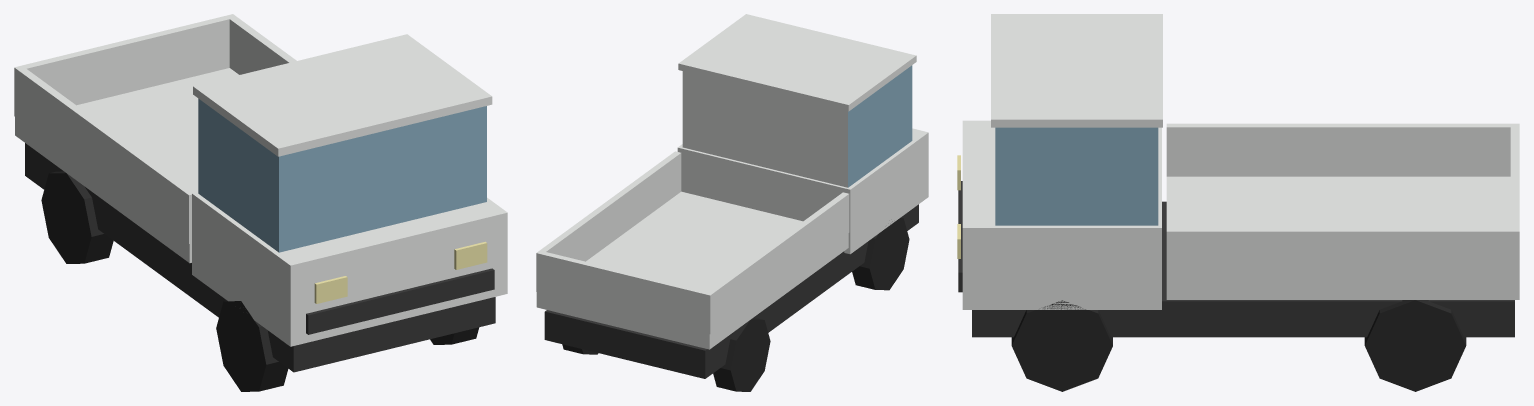
The model's file is keitruck.glb.
3 renders of one model, left to right at view 1: azimuth 30°, elevation 25°; view 2: azimuth 150°, elevation 25°; view 3: azimuth 270°, elevation 25°, orthographic. The views are drawn at different scales.
Visible parts, largest first — view 1: keitruck; view 2: keitruck; view 3: keitruck.
Boxes of the visible parts, x1,y1,x2,y2 form: keitruck: [14, 14, 507, 391]; keitruck: [536, 14, 928, 391]; keitruck: [957, 14, 1519, 391].
Size of the model in its own units: 1.41 by 1.65 by 3.11.
